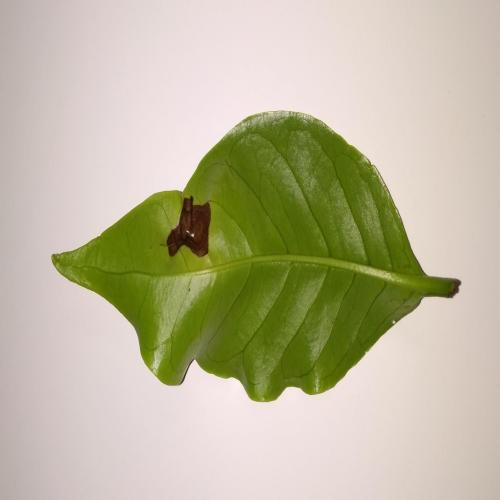miner: (167, 198, 211, 258)
